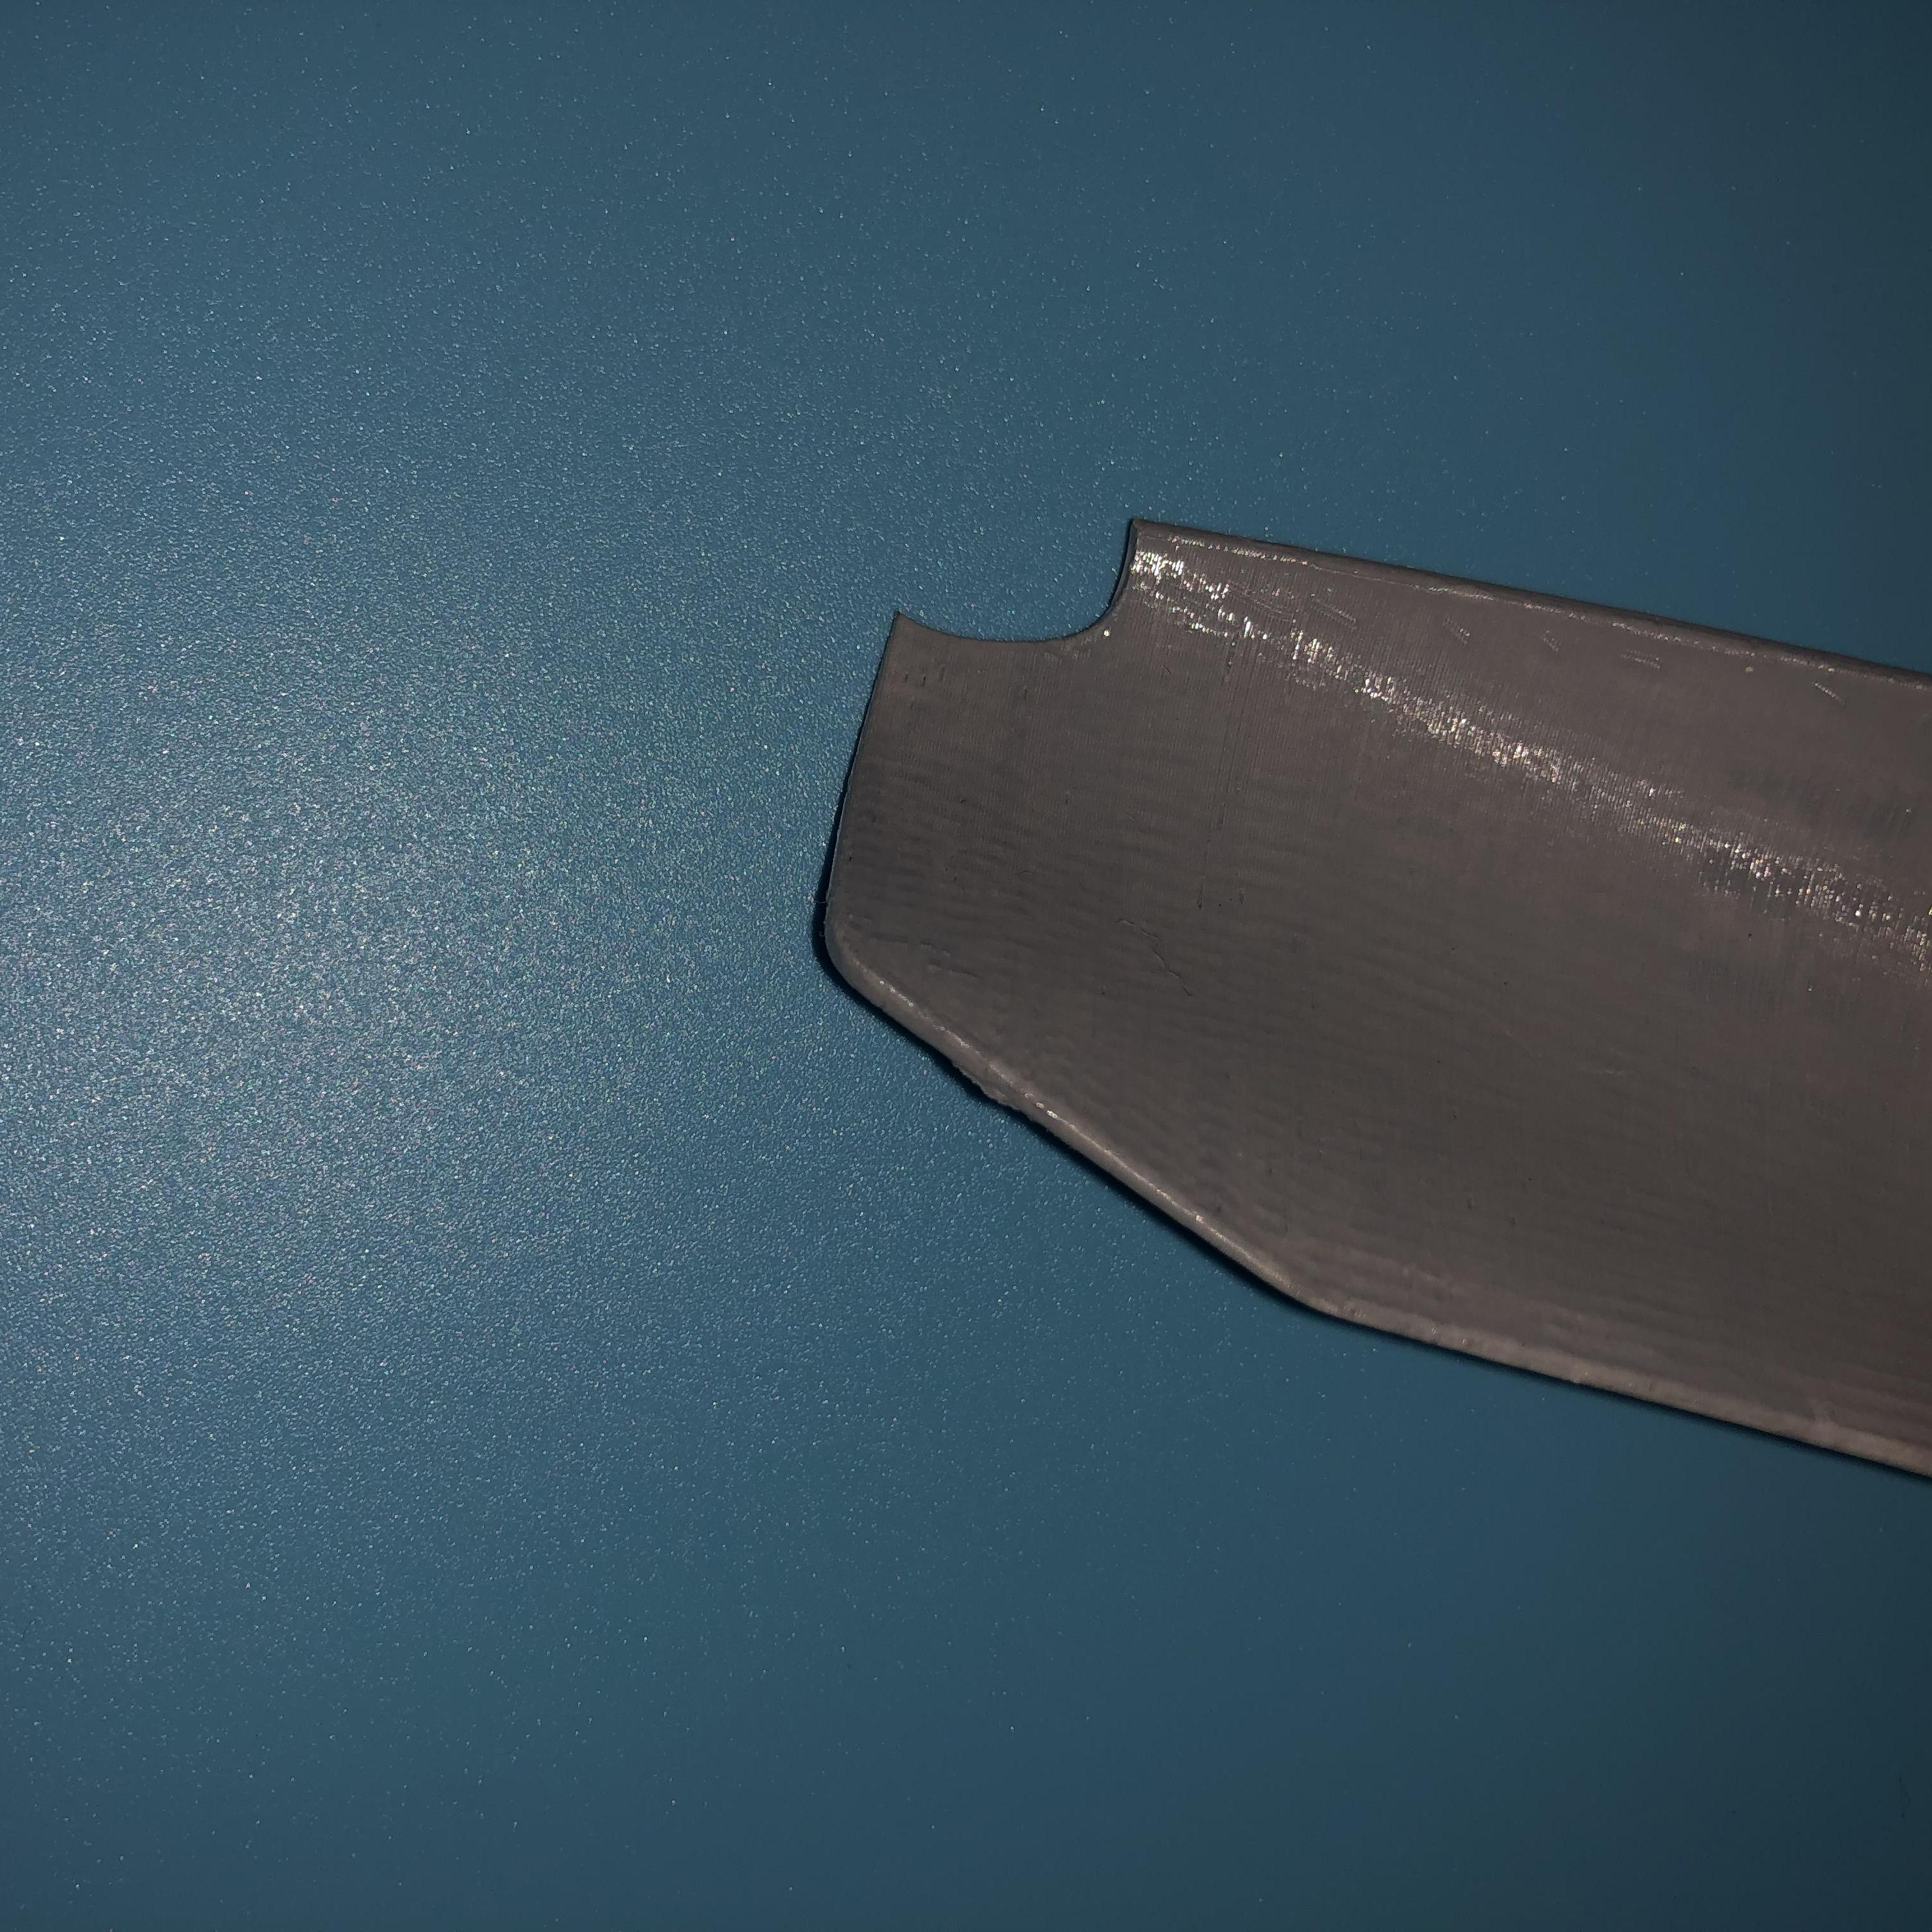fracture: (904, 515, 1164, 665)
